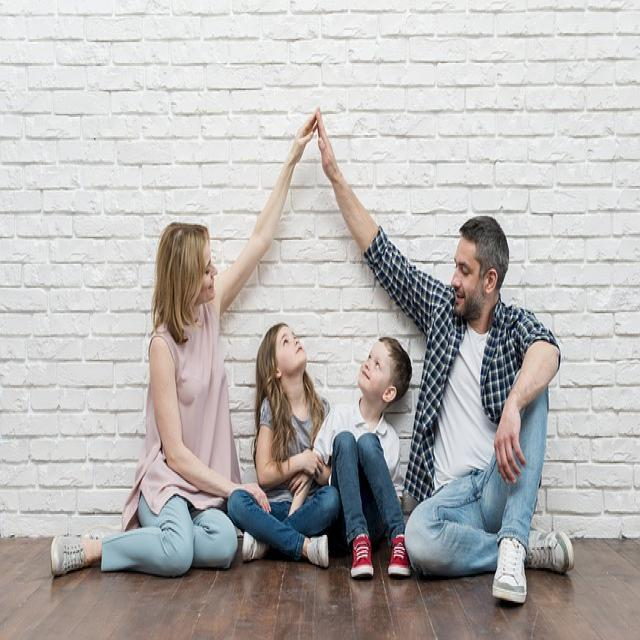adult: (317, 105, 582, 604), (51, 107, 315, 599)
child: (289, 333, 414, 581), (228, 322, 342, 570)
